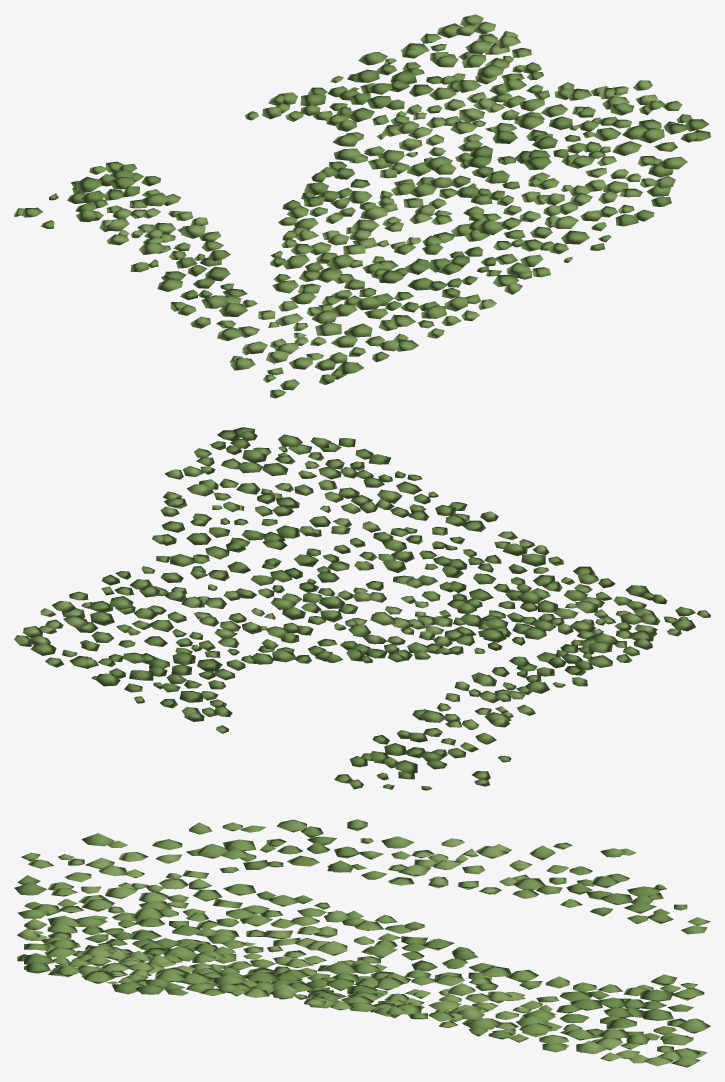
The model's file is canopy-1-0-3.glb.
The picture shows the model from 3 angles, top to bottom: view 1: azimuth 30°, elevation 25°; view 2: azimuth 150°, elevation 25°; view 3: azimuth 270°, elevation 25°; orthographic projection. The views are drawn at different scales.
Size of the model in its own units: 510 by 128 by 518.
1 material, 1 textured.
